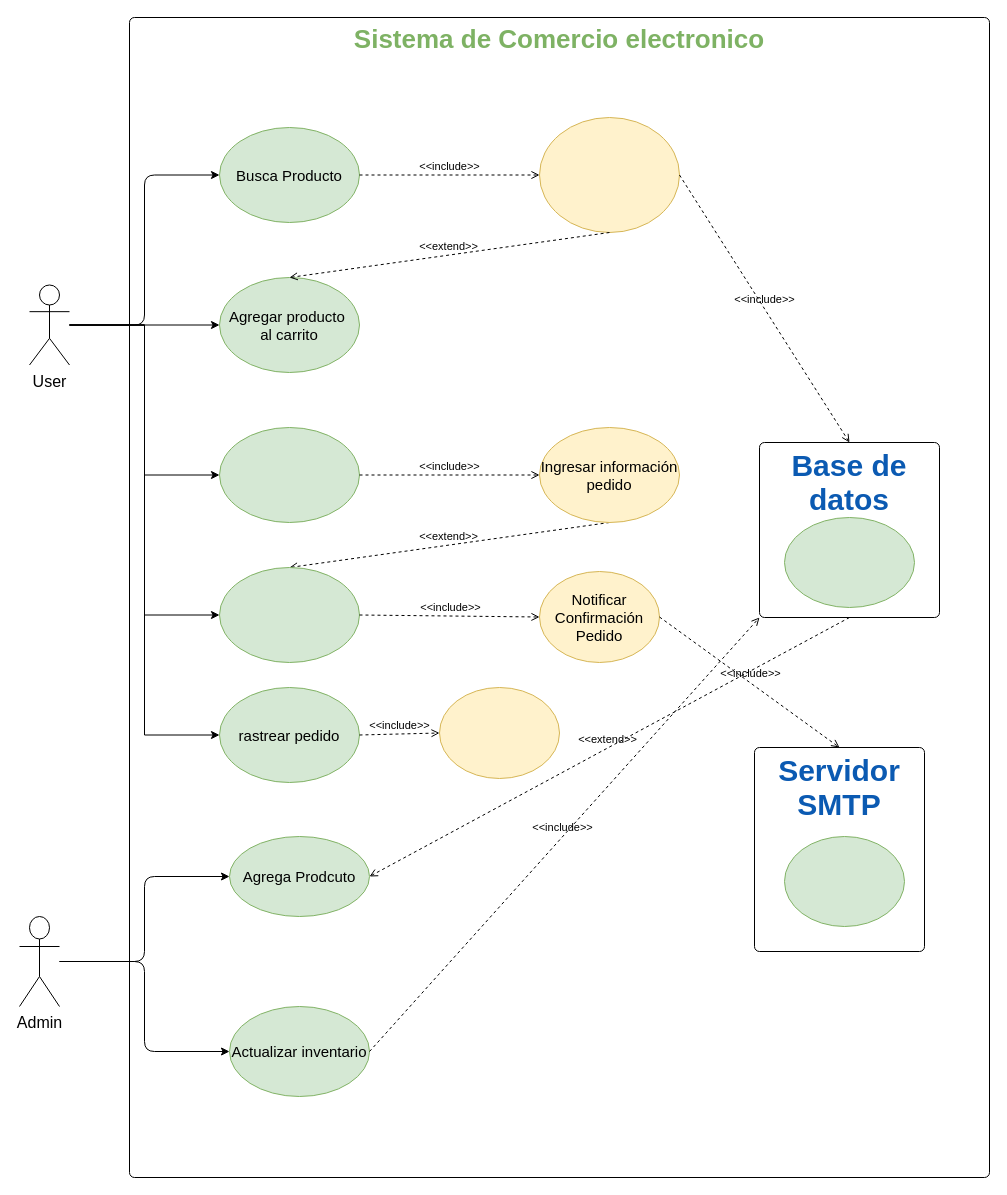
The diagram is 1007 pixels wide and 1195 high, and some of its shapes have lost their labels. The shapes that lost their labels are listed below. From the top down, each one's centre as x and y in pixels, then its label:
point 609,174: Listar Productos
point 289,474: Realizar pedido
point 849,562: Persistir información
point 289,614: Pagar pedido
point 499,732: Información Pedido
point 844,881: Enviar Email
